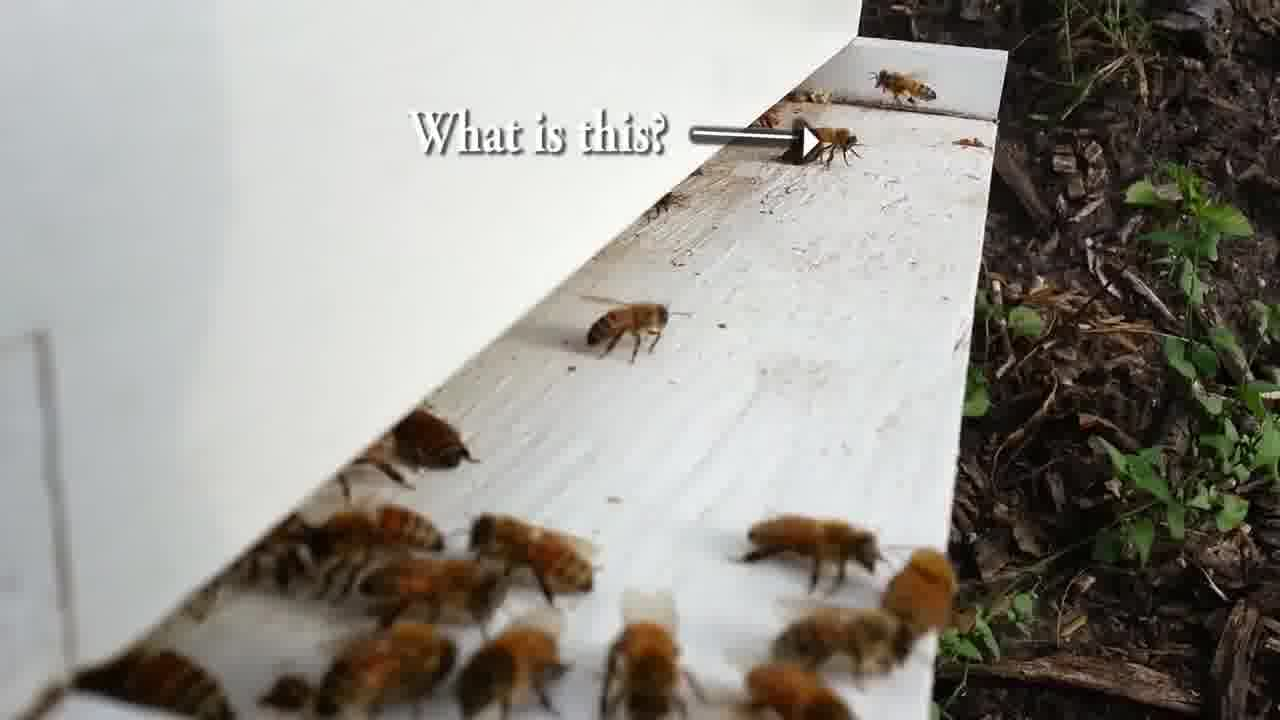pollen: (866, 64, 943, 109)
